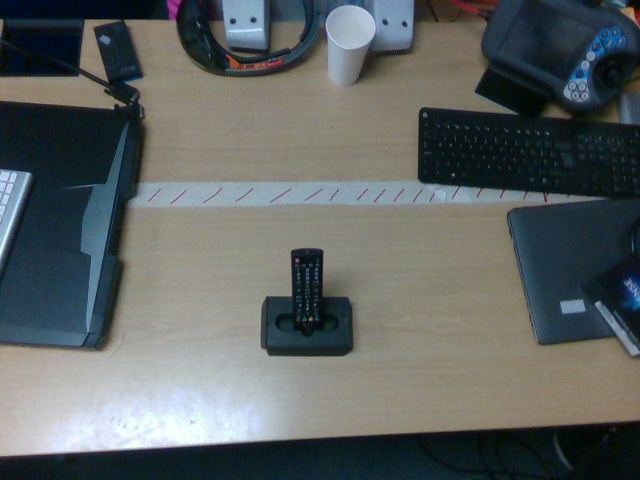remote: (291, 248, 324, 331)
